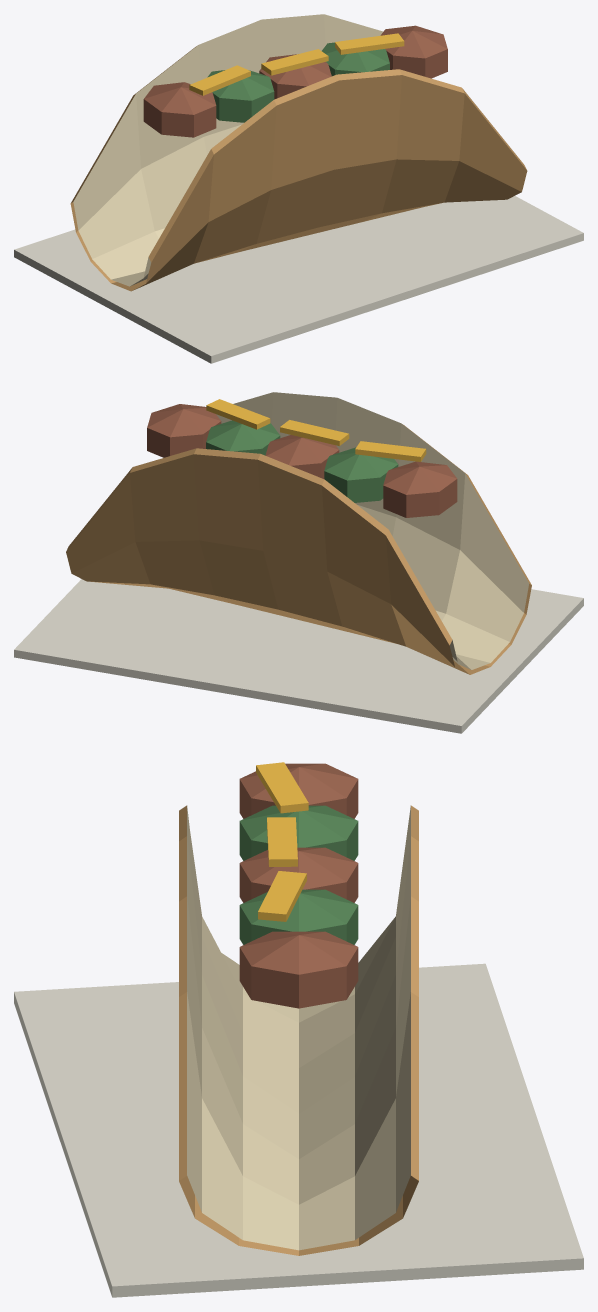
File: b16_street_taco_in_wrapper.glb
The picture shows the model from 3 angles, top to bottom: view 1: azimuth 30°, elevation 25°; view 2: azimuth 150°, elevation 25°; view 3: azimuth 270°, elevation 25°; orthographic projection. The views are drawn at different scales.
Visible parts, largest first — view 1: b16_street_taco_in_wrapper; view 2: b16_street_taco_in_wrapper; view 3: b16_street_taco_in_wrapper.
Part boxes in pixels (<box>): b16_street_taco_in_wrapper: <box>14,14,583,363</box>; b16_street_taco_in_wrapper: <box>14,392,583,733</box>; b16_street_taco_in_wrapper: <box>14,762,583,1297</box>.
Size of the model in its own units: 0.1844 by 0.08 by 0.1376.
